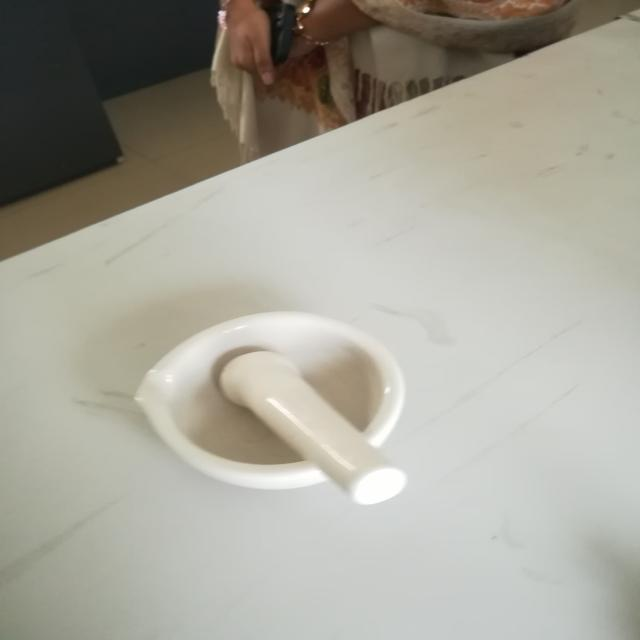Porcelain_Mortar Pestle: (93, 285, 456, 560)
